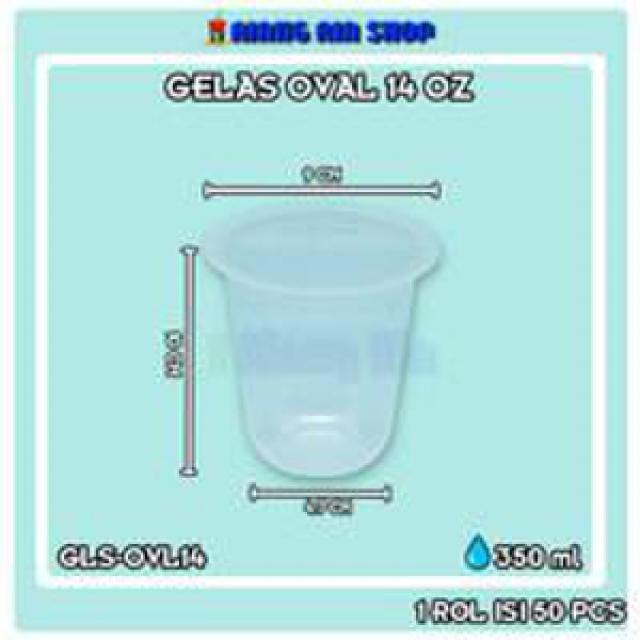plastic cup: (194, 196, 448, 484)
